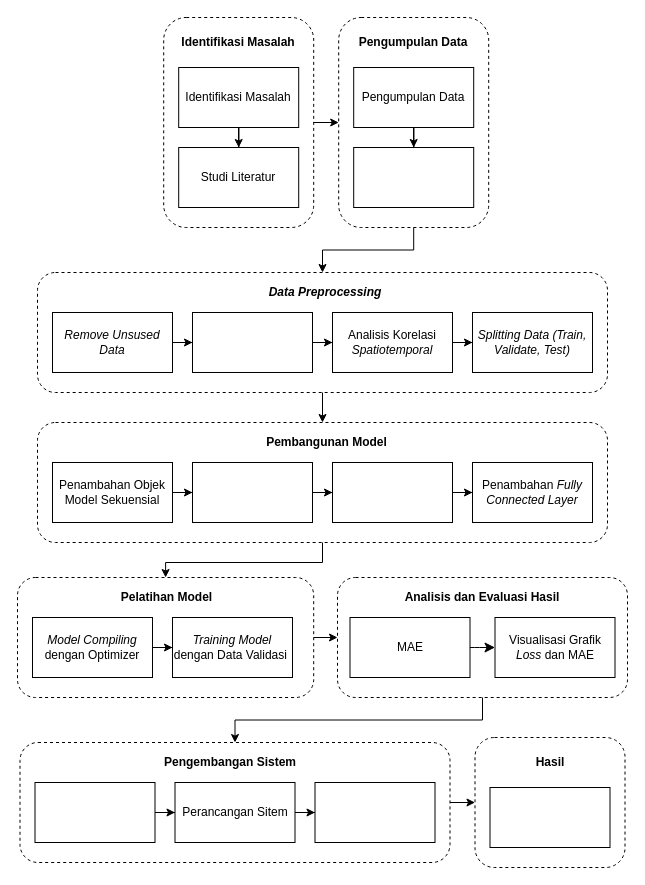
Image size: 645x885. Some labels were removed from this diagram. The centre of each missing label's shape, as x and y in pixels:
Analisis Kebutuhan Sistem: the point at 94,812
Fill Missing Data: the point at 252,342
Hasil Penelitian: the point at 549,817
Pemahaman Data: the point at 413,177
Penambahan Conv-LSTM dengan Aktivasi ReLu: the point at 392,492
Penambahan ResNet untuk skip connection: the point at 252,492
Pengujian Sistem dan Deployment: the point at 374,812
